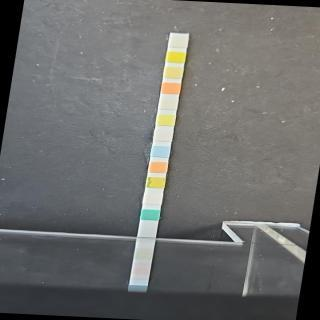mark: (144, 191, 162, 205), (154, 129, 172, 142), (150, 160, 167, 173), (147, 176, 165, 188), (151, 146, 169, 158), (159, 98, 177, 110), (162, 82, 179, 94), (165, 66, 182, 78), (170, 36, 188, 47), (157, 114, 174, 125), (168, 51, 185, 62), (142, 209, 158, 220)
